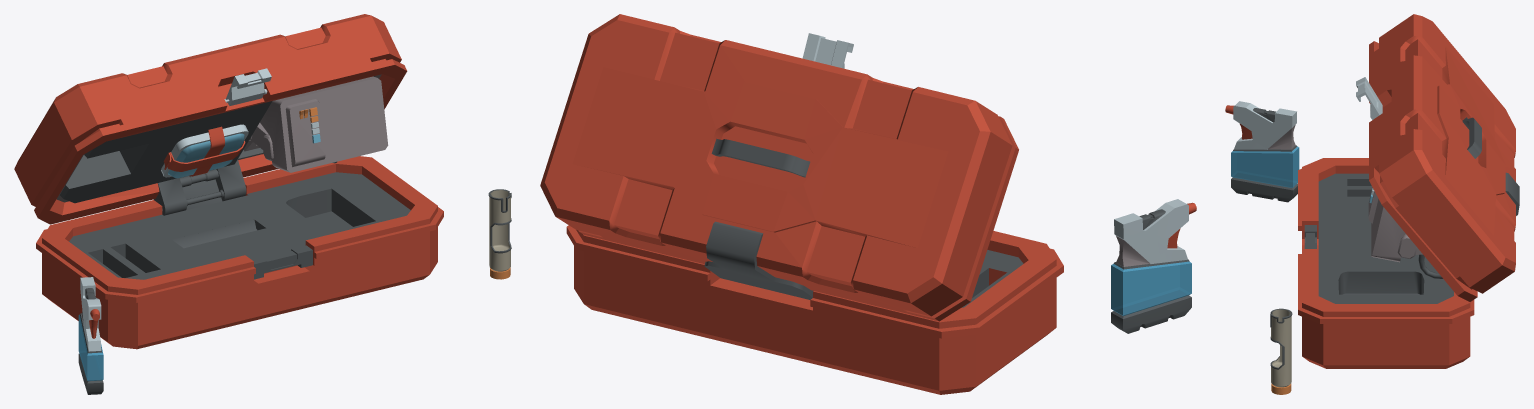
File: Homework 11 (medical box) low-poly.fbx
3 views of the same model, side by side, from view 1: azimuth 30°, elevation 25°; view 2: azimuth 150°, elevation 25°; view 3: azimuth 270°, elevation 25° (orthographic). The views are drawn at different scales.
Parts seen in each view (by area): view 1: down, up, monitor, polySurface29, box, pCube68, buttons, syiringe1, polySurface25, pCube38, polySurface87, pCube29 (+1 smaller); view 2: up, down, polySurface29, pCube68, polySurface87, pCube38, pCube63, polySurface86, polySurface25; view 3: up, down, polySurface87, pCube38, polySurface29, syiringe1, monitor, polySurface86, polySurface25, pCube63, pCube68, polySurface49.
Part boxes in pixels (x1,y1,x2,y2): down: (42, 156, 437, 349); up: (14, 14, 407, 224); monitor: (260, 76, 388, 172); polySurface29: (36, 207, 443, 302); box: (161, 124, 248, 178); pCube68: (153, 159, 246, 215); buttons: (285, 99, 325, 167); syiringe1: (488, 189, 511, 271); polySurface25: (225, 68, 271, 105); pCube38: (80, 277, 101, 351); polySurface87: (78, 313, 103, 381); pCube29: (251, 245, 312, 279); up: (540, 14, 1018, 321); down: (574, 230, 1056, 394); polySurface29: (566, 225, 1063, 338); pCube68: (704, 221, 813, 299); polySurface87: (1111, 259, 1191, 315); pCube38: (1114, 199, 1188, 266); pCube63: (711, 138, 810, 177); polySurface86: (1111, 295, 1191, 333); polySurface25: (802, 33, 853, 68); up: (1369, 14, 1515, 301); down: (1302, 158, 1470, 368); polySurface87: (1231, 145, 1299, 187); pCube38: (1233, 101, 1296, 149); polySurface29: (1298, 168, 1474, 323); syiringe1: (1270, 308, 1292, 387); monitor: (1371, 199, 1405, 262); polySurface86: (1231, 177, 1297, 202); polySurface25: (1356, 77, 1382, 119); pCube63: (1462, 117, 1481, 158); pCube68: (1505, 172, 1519, 215); polySurface49: (1397, 234, 1417, 258).
Bounding box in the file's own units: 11.3 × 5.4 × 6.76.
